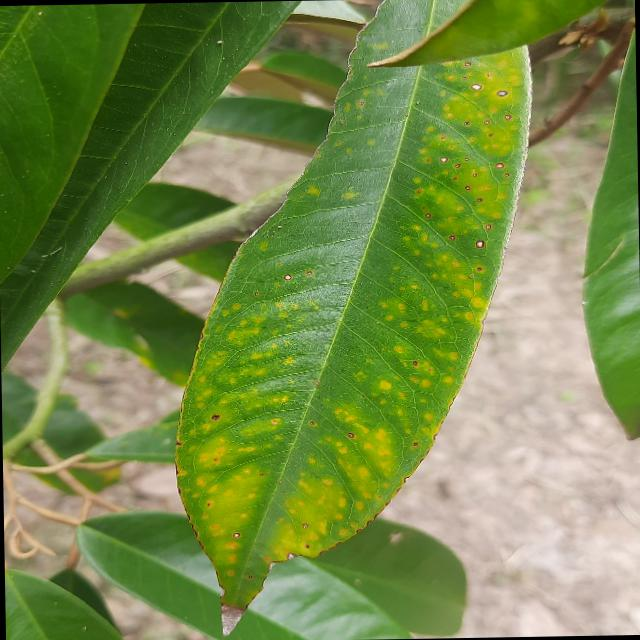Leaf Spot: (156, 0, 557, 639)
